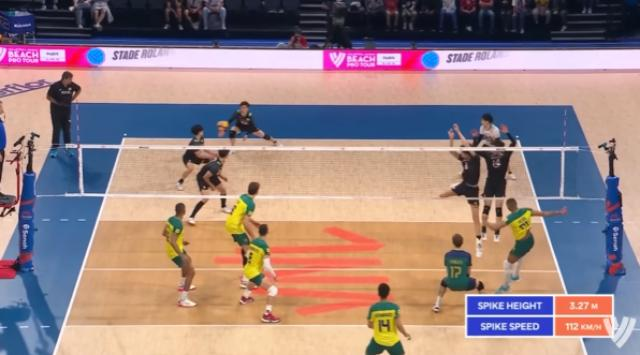Levantador: (353, 278, 409, 354), (162, 116, 230, 166)
Libero: (426, 225, 486, 304), (470, 106, 506, 152)
bola: (214, 112, 232, 138)
